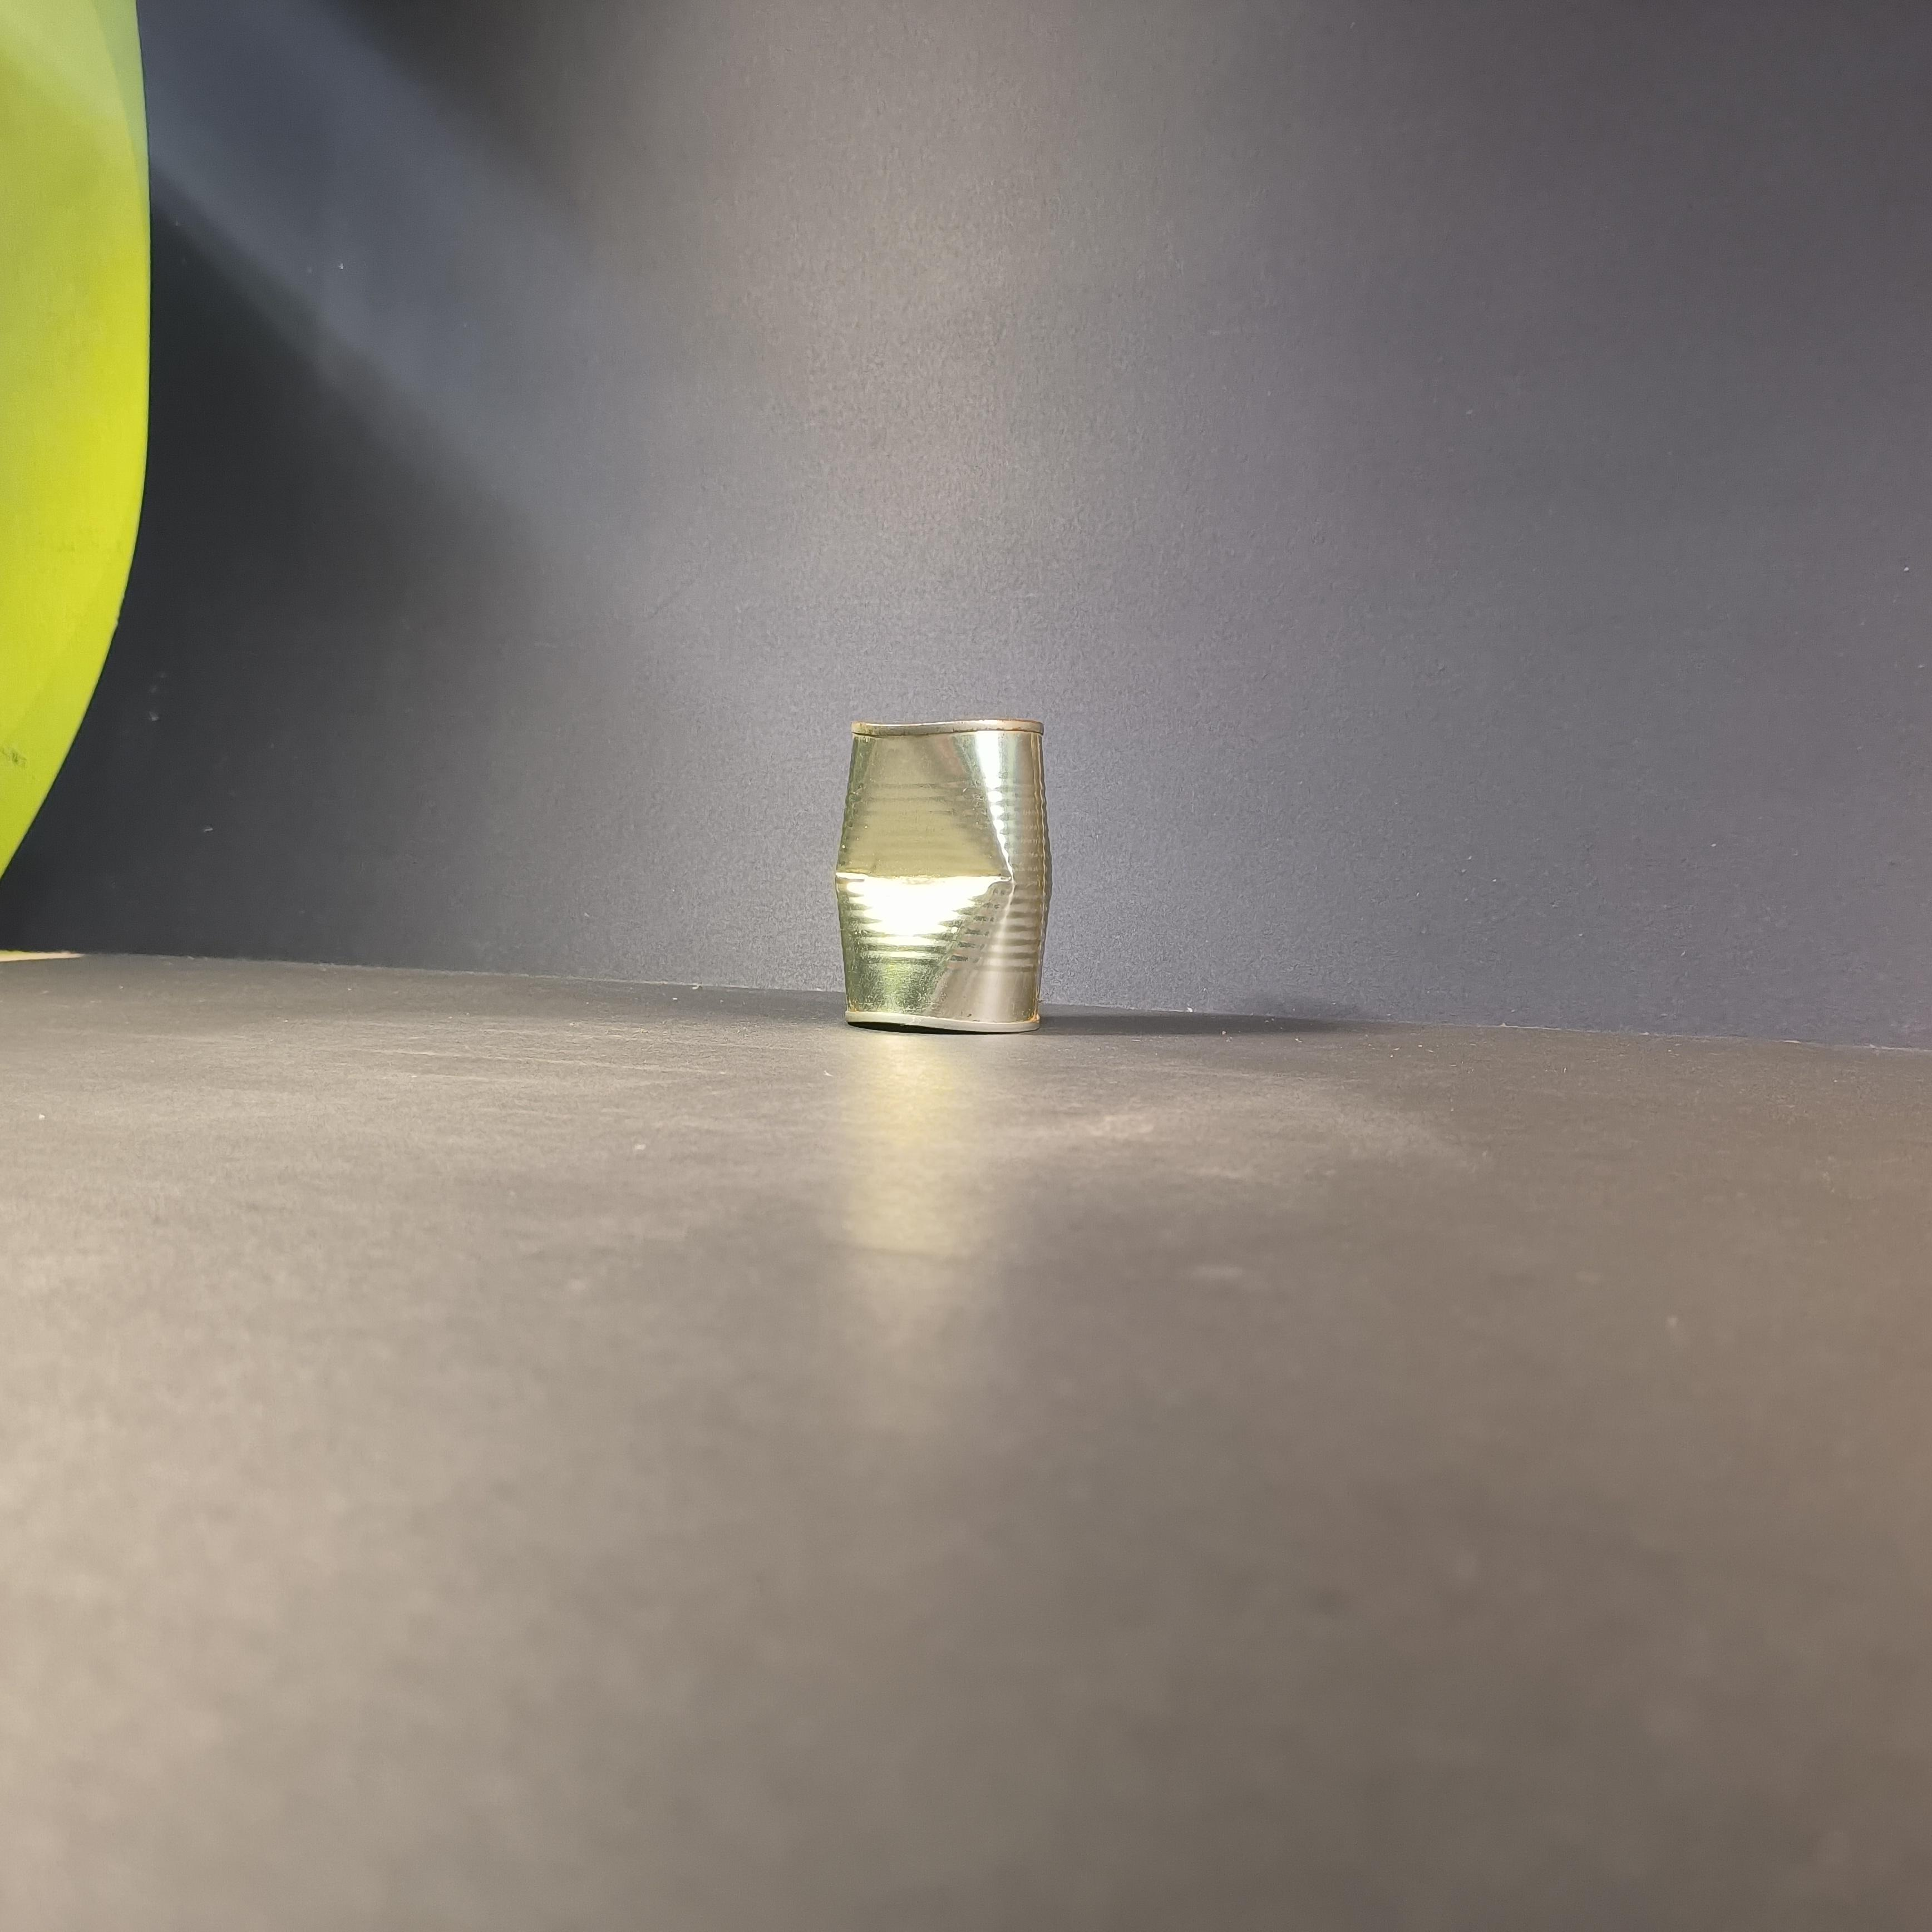Dented: (816, 695, 1074, 1049)
